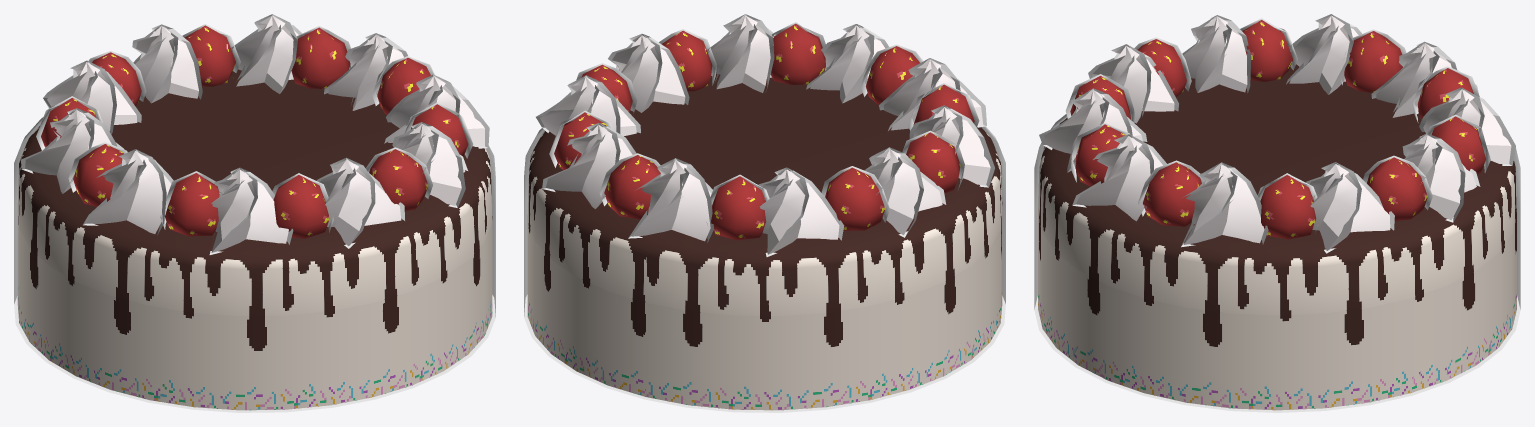
The model's file is cake.glb.
The picture shows the model from 3 angles, left to right: view 1: azimuth 30°, elevation 25°; view 2: azimuth 150°, elevation 25°; view 3: azimuth 270°, elevation 25°; orthographic projection.
Visible parts, largest first — view 1: Cylinder; view 2: Cylinder; view 3: Cylinder.
Boxes of the visible parts, x1,y1,x2,y2 form: Cylinder: (14,14,495,412); Cylinder: (524,14,1005,412); Cylinder: (1034,14,1520,412).
Bounding box in the file's own units: 2 × 1.01 × 2.
4 materials, 2 textured.
